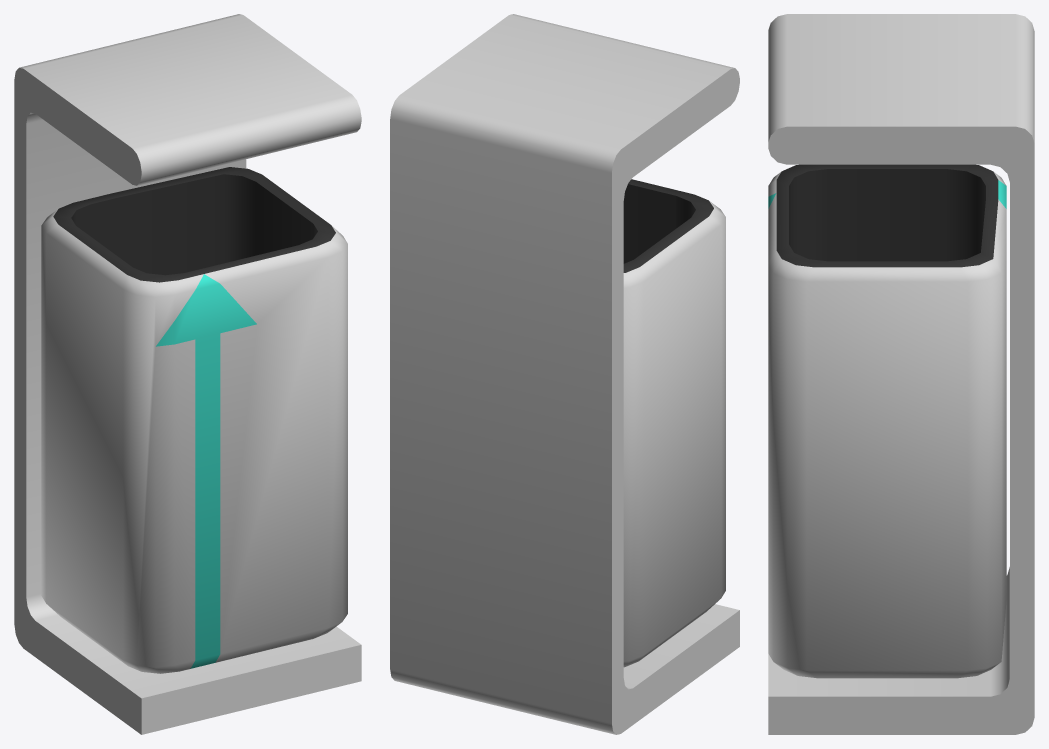
The model's file is Bin Split.fbx.
3 renders of one model, left to right at view 1: azimuth 30°, elevation 25°; view 2: azimuth 150°, elevation 25°; view 3: azimuth 270°, elevation 25°, orthographic. The views are drawn at different scales.
Visible parts, largest first — view 1: Bin.002, Bin.001; view 2: Bin.001, Bin.002; view 3: Bin.002, Bin.001.
Boxes of the visible parts, x1,y1,x2,y2 form: Bin.002: [41, 167, 347, 673]; Bin.001: [14, 14, 361, 734]; Bin.001: [390, 14, 739, 734]; Bin.002: [623, 179, 725, 667]; Bin.002: [768, 164, 1006, 678]; Bin.001: [768, 14, 1034, 734].
Bounding box in the file's own units: 0.3176 × 0.8 × 0.3176.
